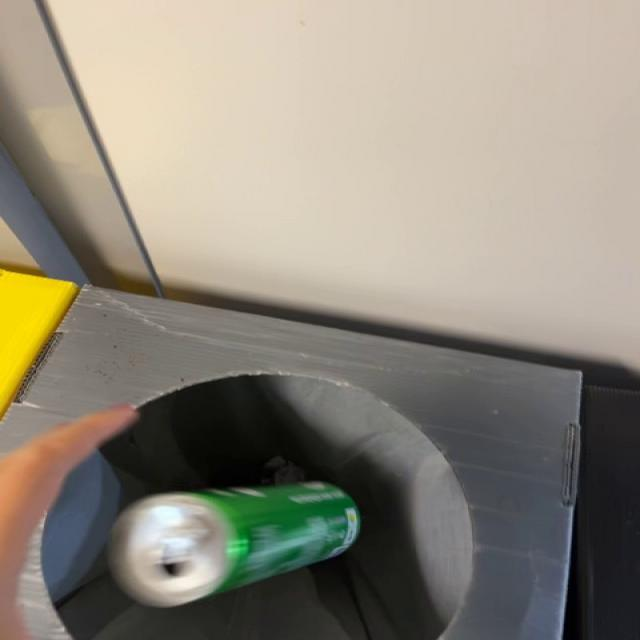bin: (1, 287, 581, 640), (49, 457, 363, 613)
metal: (109, 482, 361, 608)
